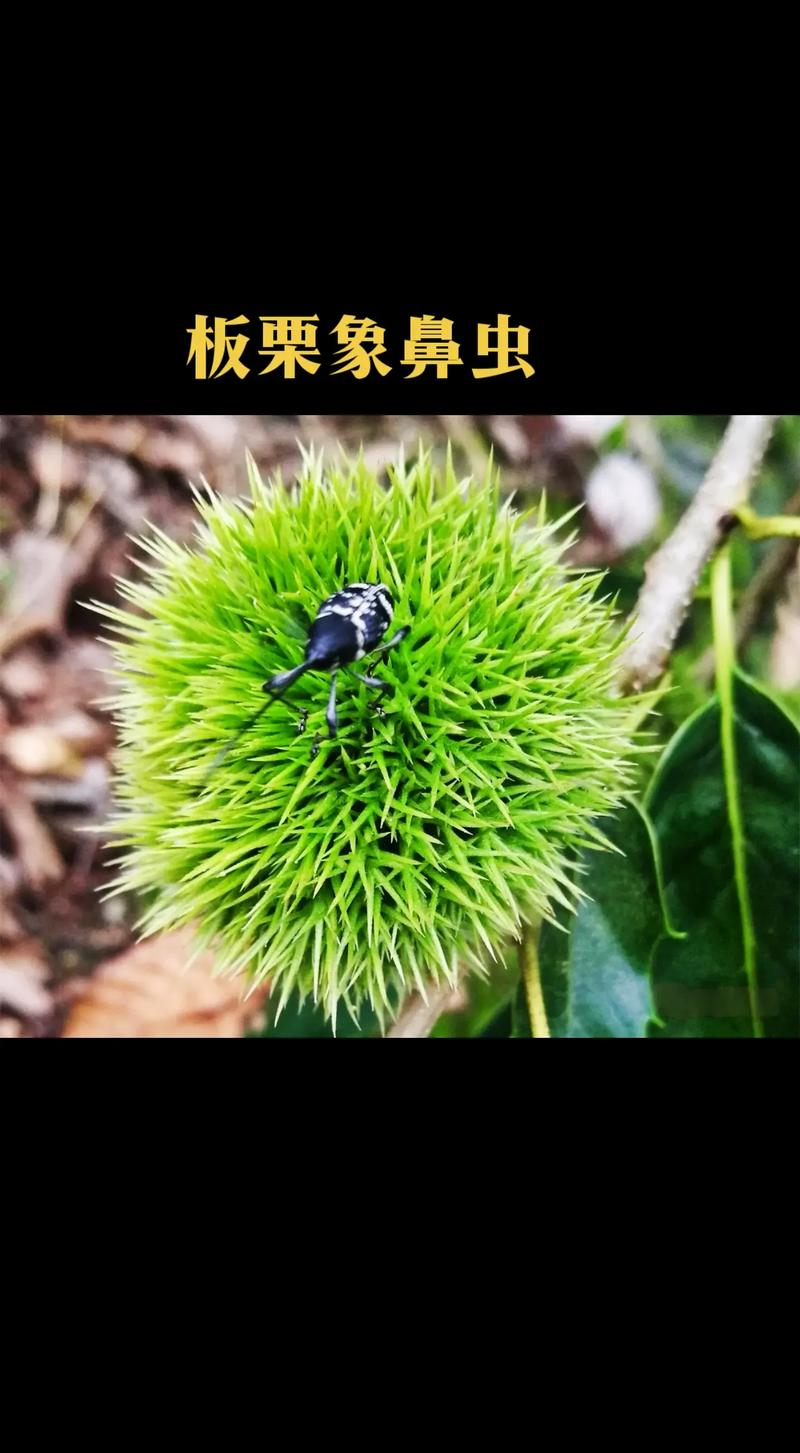Curculionidae: (200, 580, 411, 800)
